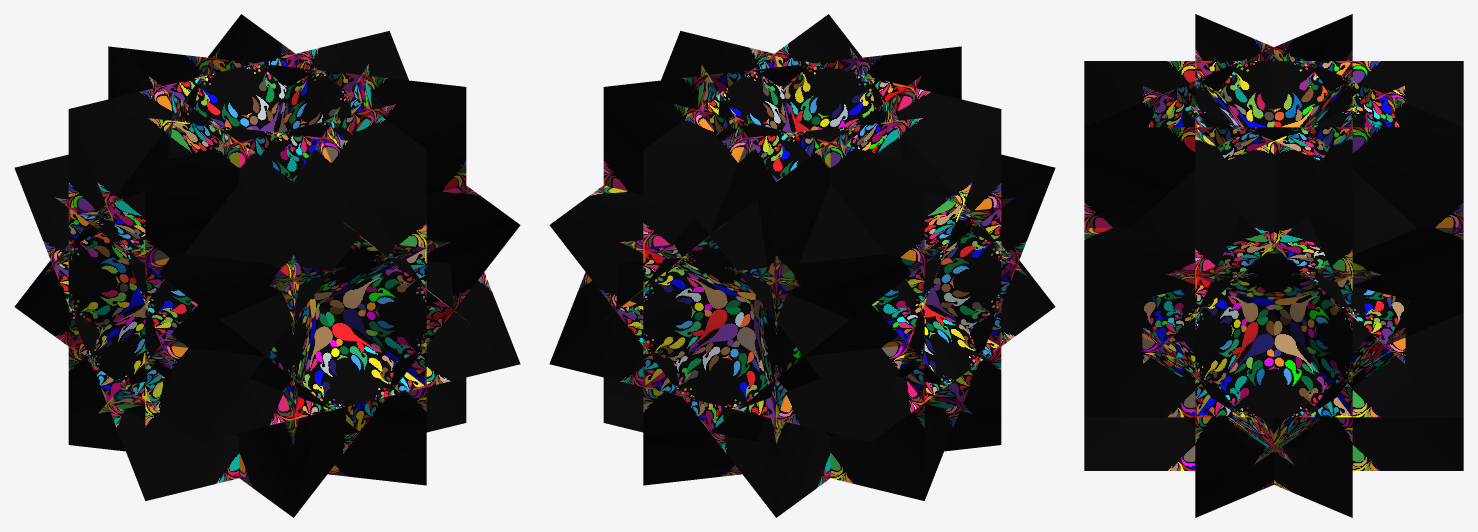
The model's file is 34UniformGreatRhombicuboctahedron.gltf.
3 views of the same model, side by side, from view 1: azimuth 30°, elevation 25°; view 2: azimuth 150°, elevation 25°; view 3: azimuth 270°, elevation 25° (orthographic). The views are drawn at different scales.
Visible parts, largest first — view 1: 3UniformGreatRhombicuboctahedron; view 2: 3UniformGreatRhombicuboctahedron; view 3: 3UniformGreatRhombicuboctahedron.
Boxes of the visible parts, left/top/right/bottom form: 3UniformGreatRhombicuboctahedron: left=14, top=14, right=520, bottom=517; 3UniformGreatRhombicuboctahedron: left=549, top=14, right=1055, bottom=517; 3UniformGreatRhombicuboctahedron: left=1084, top=14, right=1463, bottom=517.
Size of the model in its own units: 1 by 1 by 1.
1 material, 1 textured.
